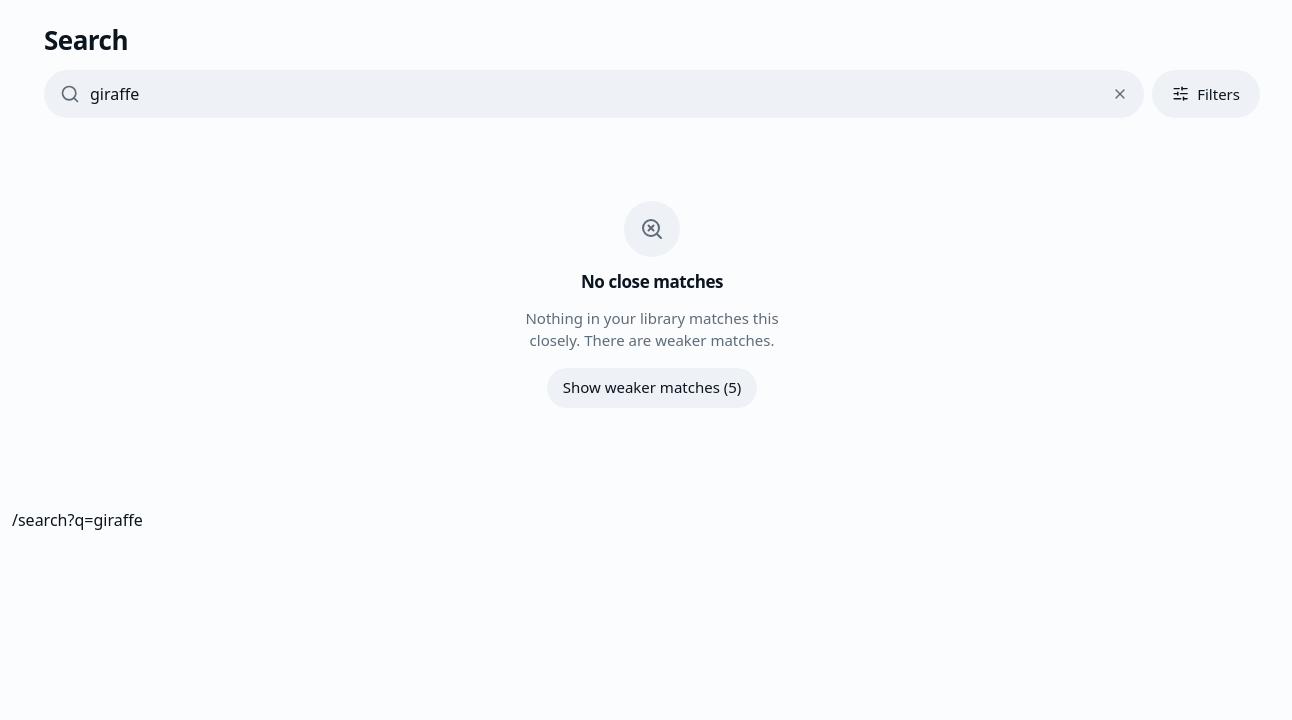
Search page › with no strong matches says so, and the weaker ones are one click away
Check: the heading "No close matches" is shown, box [581,269,723,294]
Click the button "Show weaker matches (5)": (652, 388) [547,368,757,408]
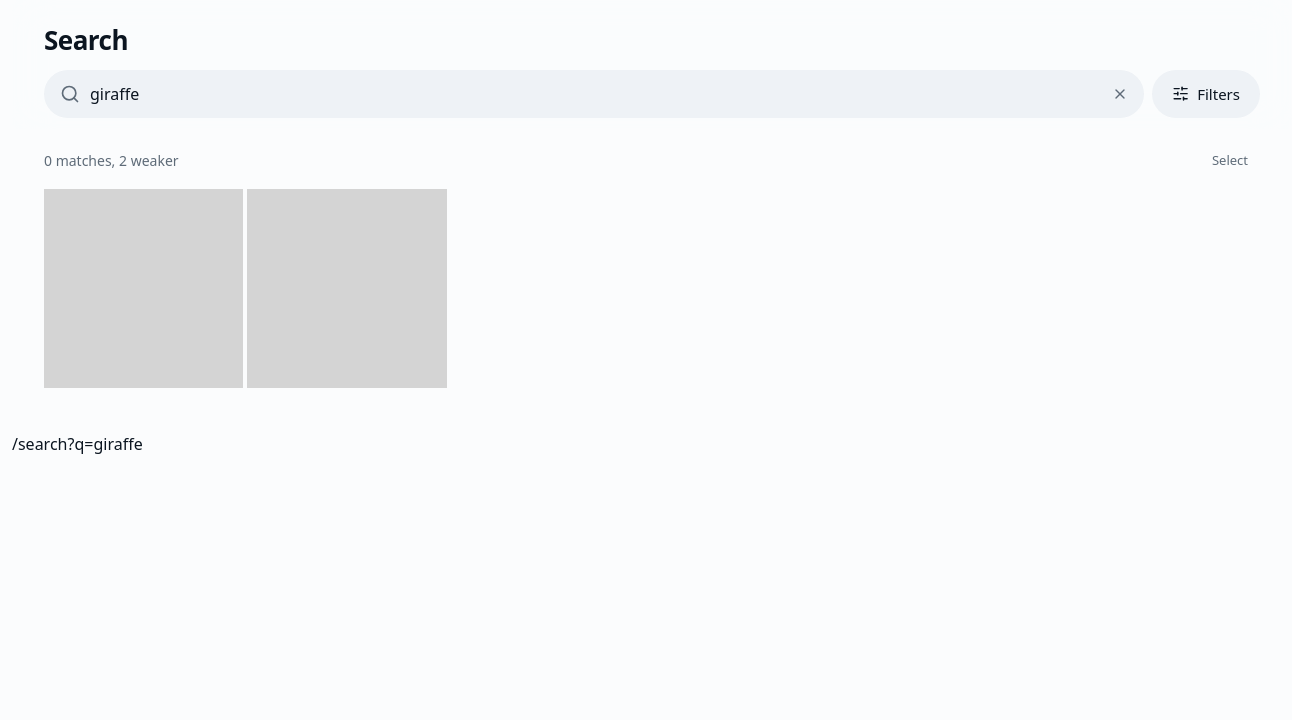
Check: the text "0 matches, 2 weaker" is shown, box [44,151,179,171]
Check: the heading "No close matches" is gone
